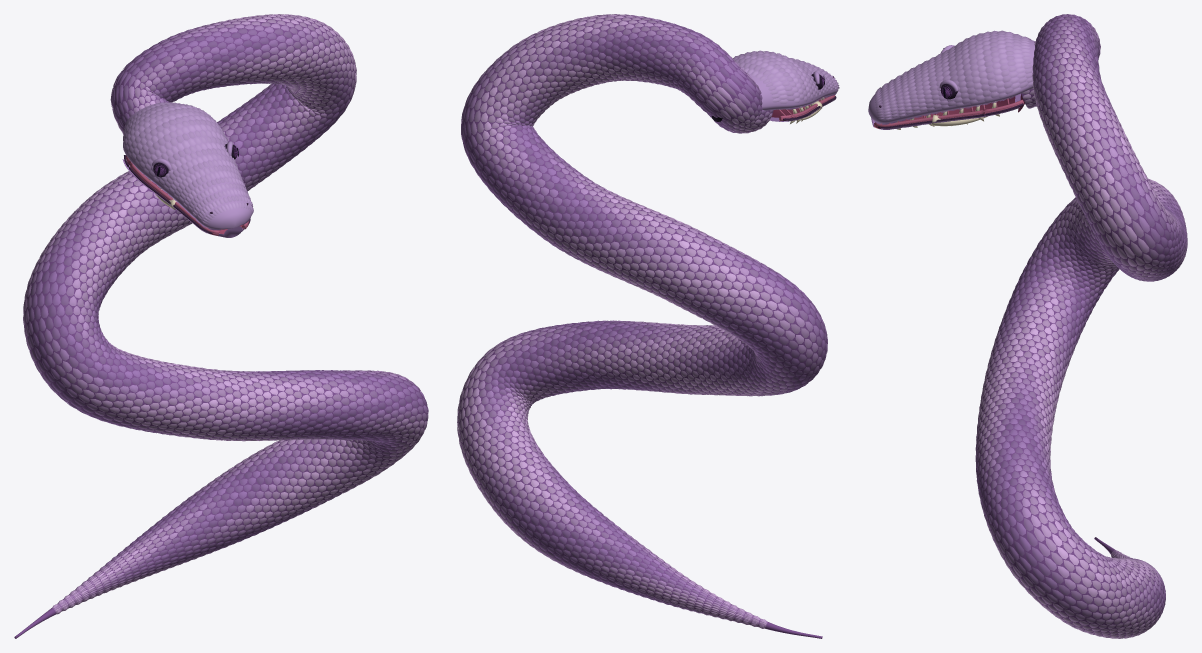
File: serpent.glb
The picture shows the model from 3 angles, left to right: view 1: azimuth 30°, elevation 25°; view 2: azimuth 150°, elevation 25°; view 3: azimuth 270°, elevation 25°; orthographic projection. The views are drawn at different scales.
Parts seen in each view (by area): view 1: SerpentBody, Cranial shield scales, Cranium; view 2: SerpentBody, Cranial shield scales, Cranium; view 3: SerpentBody, Cranial shield scales, Cranium, Lower gum rim 1.
Boxes of the visible parts, x1=… form: SerpentBody: x1=14, y1=14, x2=428, y2=638; Cranial shield scales: x1=123, y1=102, x2=253, y2=224; Cranium: x1=123, y1=102, x2=252, y2=229; SerpentBody: x1=457, y1=14, x2=827, y2=638; Cranial shield scales: x1=733, y1=50, x2=839, y2=103; Cranium: x1=735, y1=52, x2=838, y2=110; SerpentBody: x1=975, y1=14, x2=1187, y2=638; Cranial shield scales: x1=875, y1=30, x2=1032, y2=120; Cranium: x1=868, y1=32, x2=1034, y2=123; Lower gum rim 1: x1=874, y1=99, x2=1023, y2=126.
Bounding box in the file's own units: 4.03 × 5.76 × 2.78.
